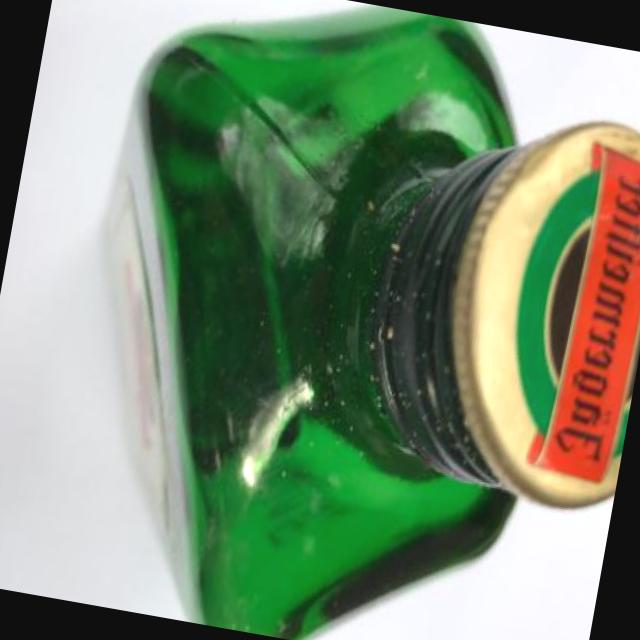chai_thuy_tinh: (107, 5, 514, 640)
kim_loai: (451, 122, 640, 508)
